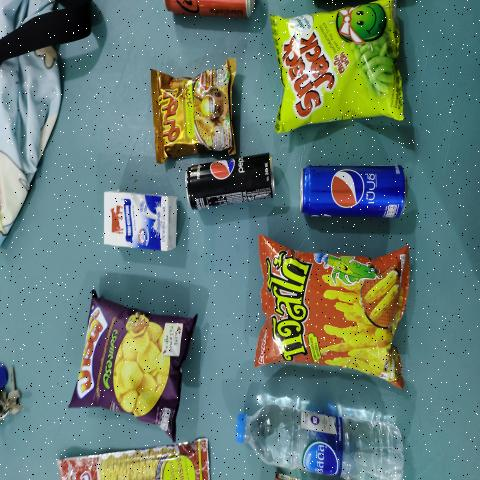crystal: (230, 394, 412, 471)
mama: (158, 69, 232, 147)
party_purple: (58, 293, 200, 433)
pepsi_black: (183, 152, 279, 207)
pepsi_blue: (296, 157, 414, 227)
snack_jack: (271, 5, 401, 131)
thai_denmark: (106, 191, 177, 251)
twisco: (264, 237, 408, 382)
